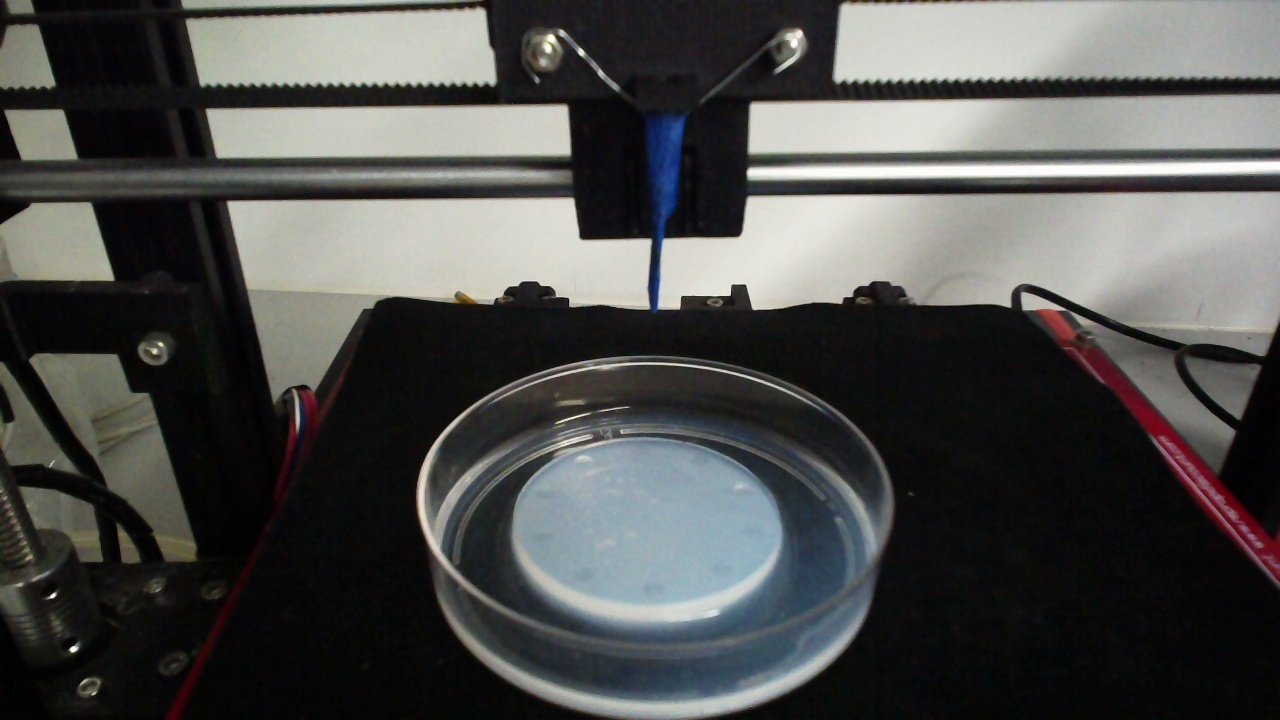groove: (707, 559, 734, 578), (640, 580, 668, 598), (742, 522, 766, 540), (571, 564, 595, 581), (529, 529, 555, 544), (731, 483, 755, 499), (688, 454, 711, 468), (572, 454, 592, 470), (533, 486, 554, 501), (628, 444, 648, 458)
needle: (646, 115, 683, 310)
